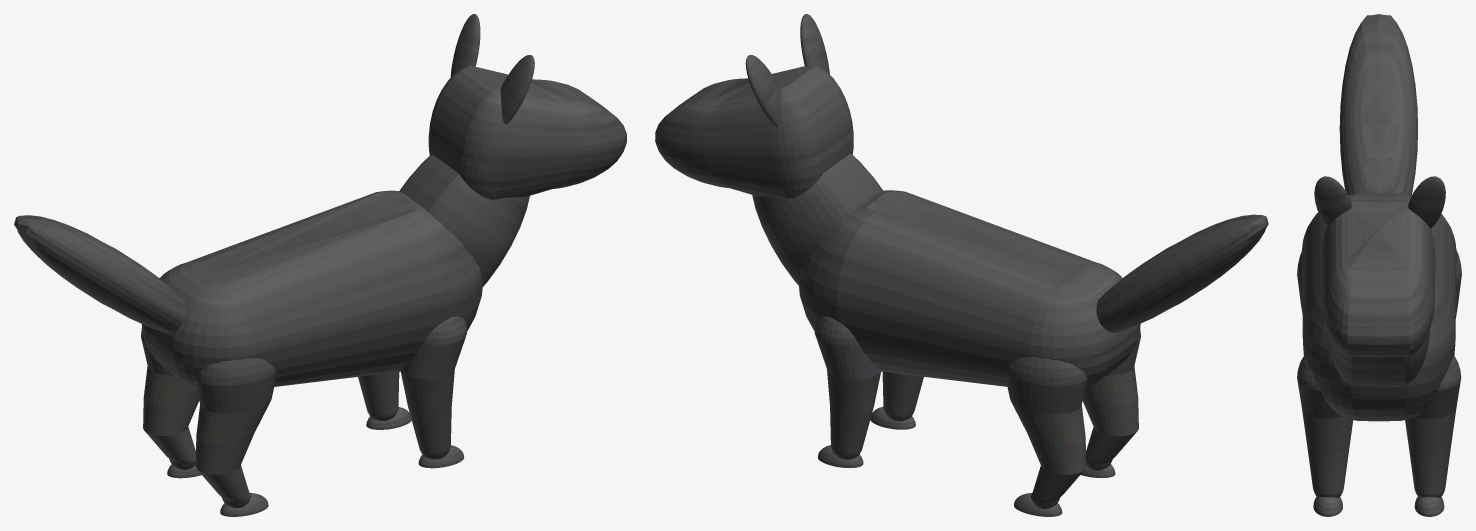
File: wolf.FBX
The picture shows the model from 3 angles, left to right: view 1: azimuth 30°, elevation 25°; view 2: azimuth 150°, elevation 25°; view 3: azimuth 270°, elevation 25°; orthographic projection. The views are drawn at different scales.
Visible parts, largest first — view 1: Sphere, Sphere.002, Sphere.005, Sphere.008, Sphere.004, Sphere.001, Object001, Sphere.003, Sphere.006, Sphere.007; view 2: Sphere, Sphere.002, Sphere.005, Sphere.008, Sphere.004, Sphere.001, Sphere.003, Object001, Sphere.006, Sphere.007; view 3: Sphere.002, Sphere.008, Sphere, Sphere.004, Sphere.001, Sphere.003, Object001, Sphere.006, Sphere.005.
Part boxes in pixels (<box>): Sphere: <box>141,190,482,388</box>; Sphere.002: <box>428,66,626,199</box>; Sphere.005: <box>141,328,276,507</box>; Sphere.008: <box>14,215,186,332</box>; Sphere.004: <box>358,316,466,459</box>; Sphere.001: <box>399,154,529,286</box>; Object001: <box>500,55,534,124</box>; Sphere.003: <box>450,14,480,77</box>; Sphere.006: <box>366,407,464,468</box>; Sphere.007: <box>167,464,268,516</box>; Sphere: <box>798,190,1140,388</box>; Sphere.002: <box>655,65,853,198</box>; Sphere.005: <box>1005,329,1140,508</box>; Sphere.008: <box>1096,214,1268,332</box>; Sphere.004: <box>814,316,923,459</box>; Sphere.001: <box>752,154,882,285</box>; Sphere.003: <box>745,55,780,126</box>; Object001: <box>800,14,829,74</box>; Sphere.006: <box>817,407,915,467</box>; Sphere.007: <box>1014,464,1115,516</box>; Sphere.002: <box>1321,201,1435,357</box>; Sphere.008: <box>1339,14,1417,195</box>; Sphere: <box>1301,193,1456,421</box>; Sphere.004: <box>1297,356,1461,497</box>; Sphere.001: <box>1327,329,1429,385</box>; Sphere.003: <box>1408,176,1445,228</box>; Object001: <box>1314,176,1352,226</box>; Sphere.006: <box>1313,496,1444,516</box>; Sphere.005: <box>1297,250,1461,318</box>.
Bounding box in the file's own units: 331 × 205 × 82.15.
